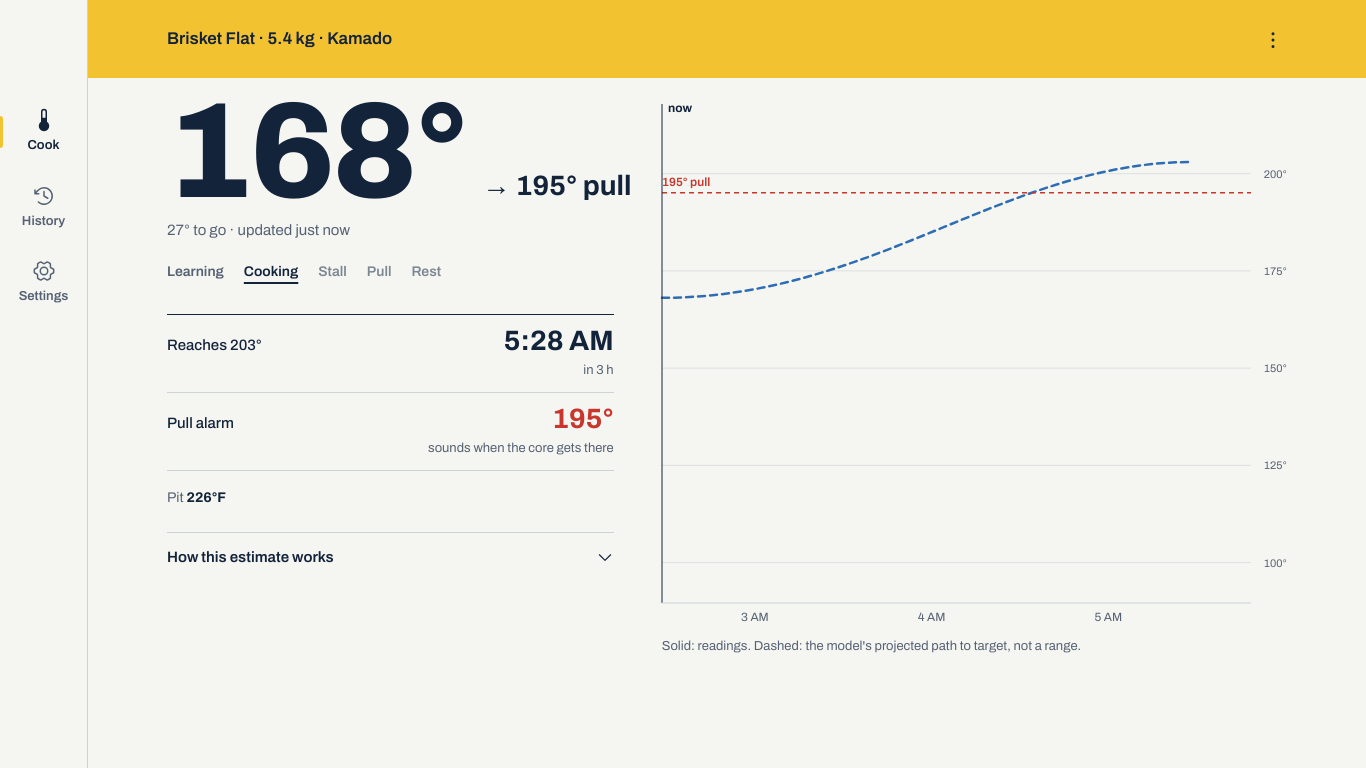
LiveCook › keeps the dialog open and says so when ending fails
The image size is (1366, 768).
Click the button named "Cook options": point(1273, 40) [1251,18,1295,62]
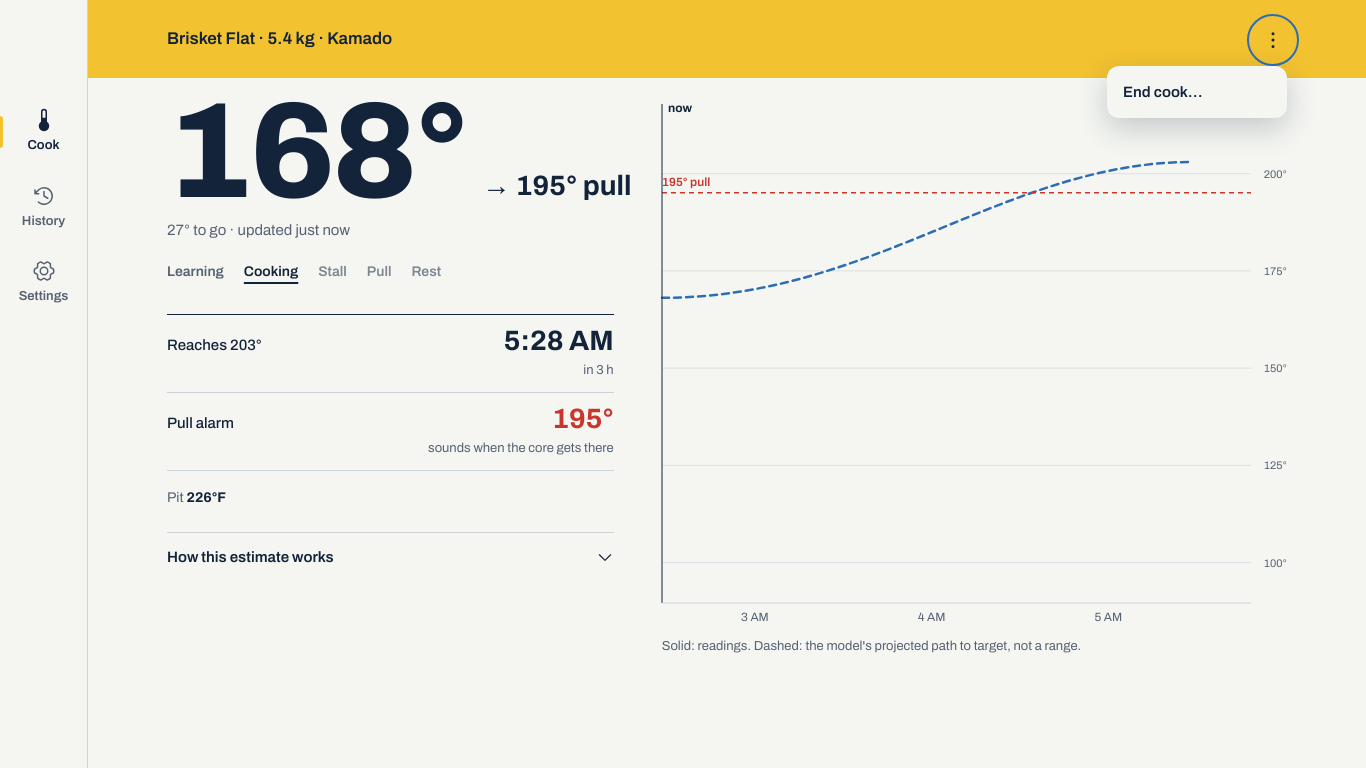
Click the menu item "End cook…": point(1197, 92) [1107,70,1287,114]
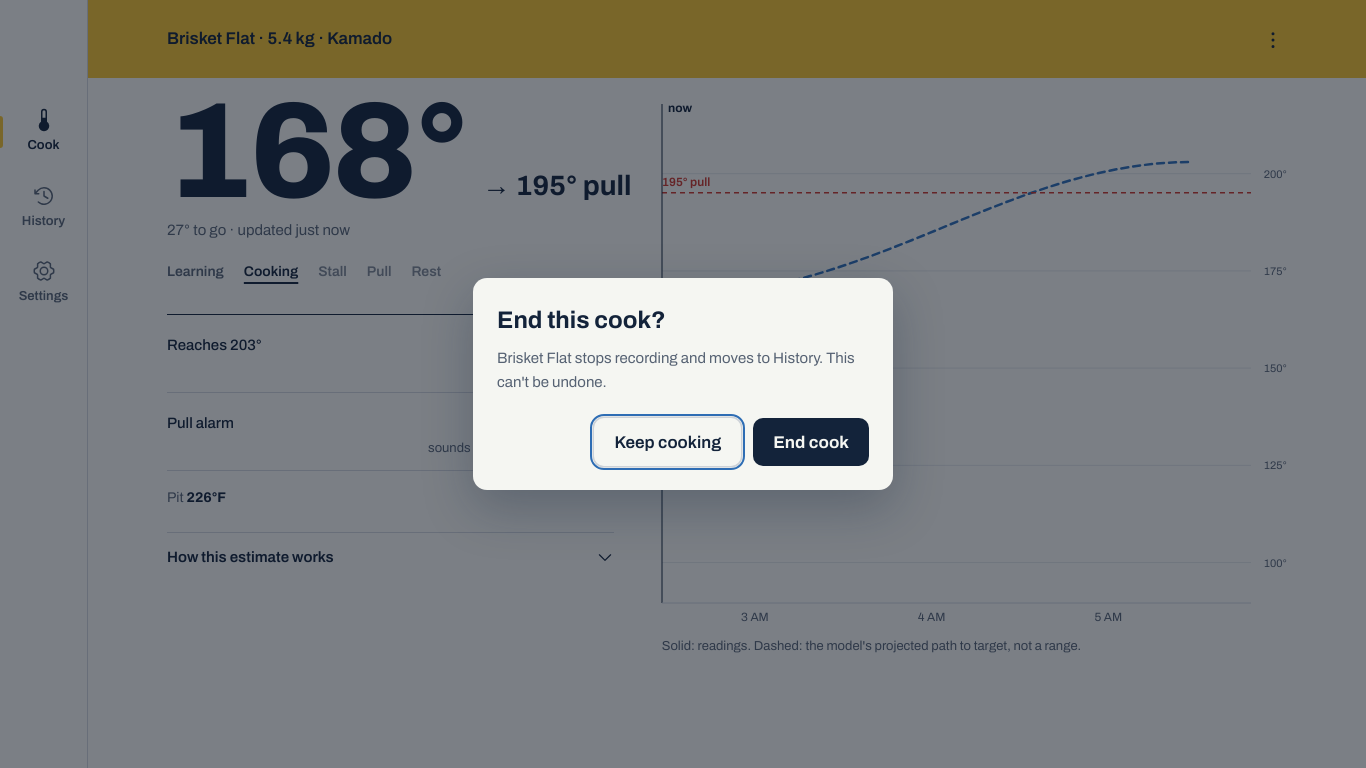
Click the button "End cook": point(811, 442) [753,418,869,466]
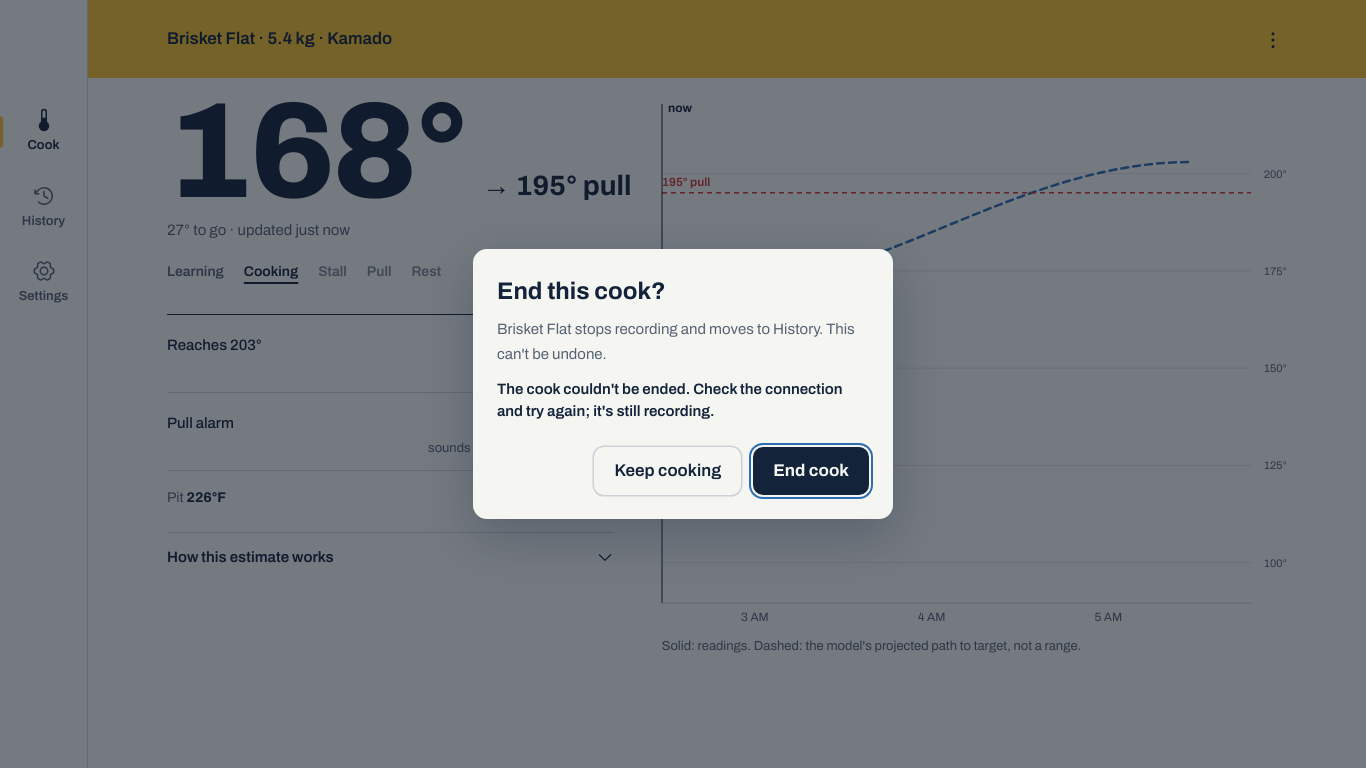
Now the text "couldn't be ended" is shown, box [497,381,842,419]
